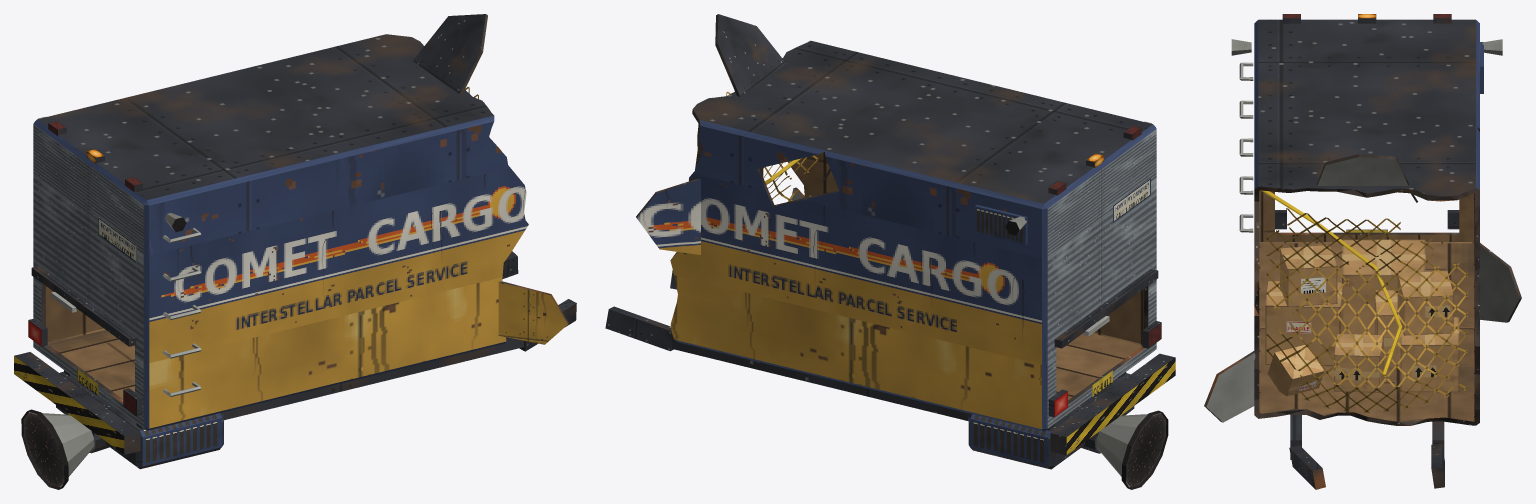
The model's file is CargoBox.fbx.
3 views of the same model, side by side, from view 1: azimuth 30°, elevation 25°; view 2: azimuth 150°, elevation 25°; view 3: azimuth 270°, elevation 25° (orthographic).
Visible parts, largest first — view 1: CargoBox; view 2: CargoBox; view 3: CargoBox.
Boxes of the visible parts, bbox=[...] form: CargoBox: bbox=[14, 14, 576, 489]; CargoBox: bbox=[605, 14, 1175, 489]; CargoBox: bbox=[1204, 14, 1521, 489].
Bounding box in the file's own units: 7.01 × 4.82 × 3.8.
